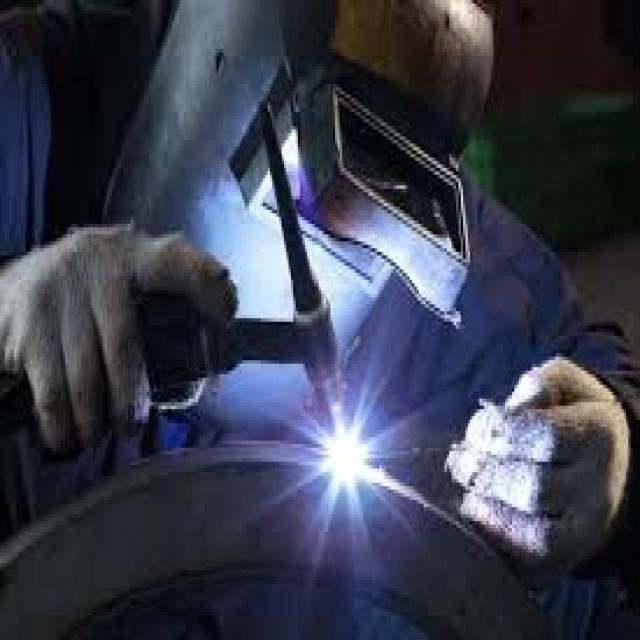welding: (328, 427, 371, 487)
